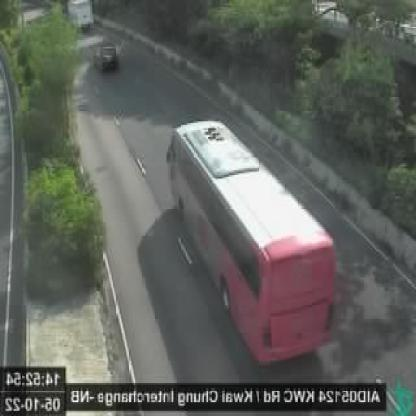Bus: (172, 120, 334, 364)
Car: (90, 42, 119, 74)
